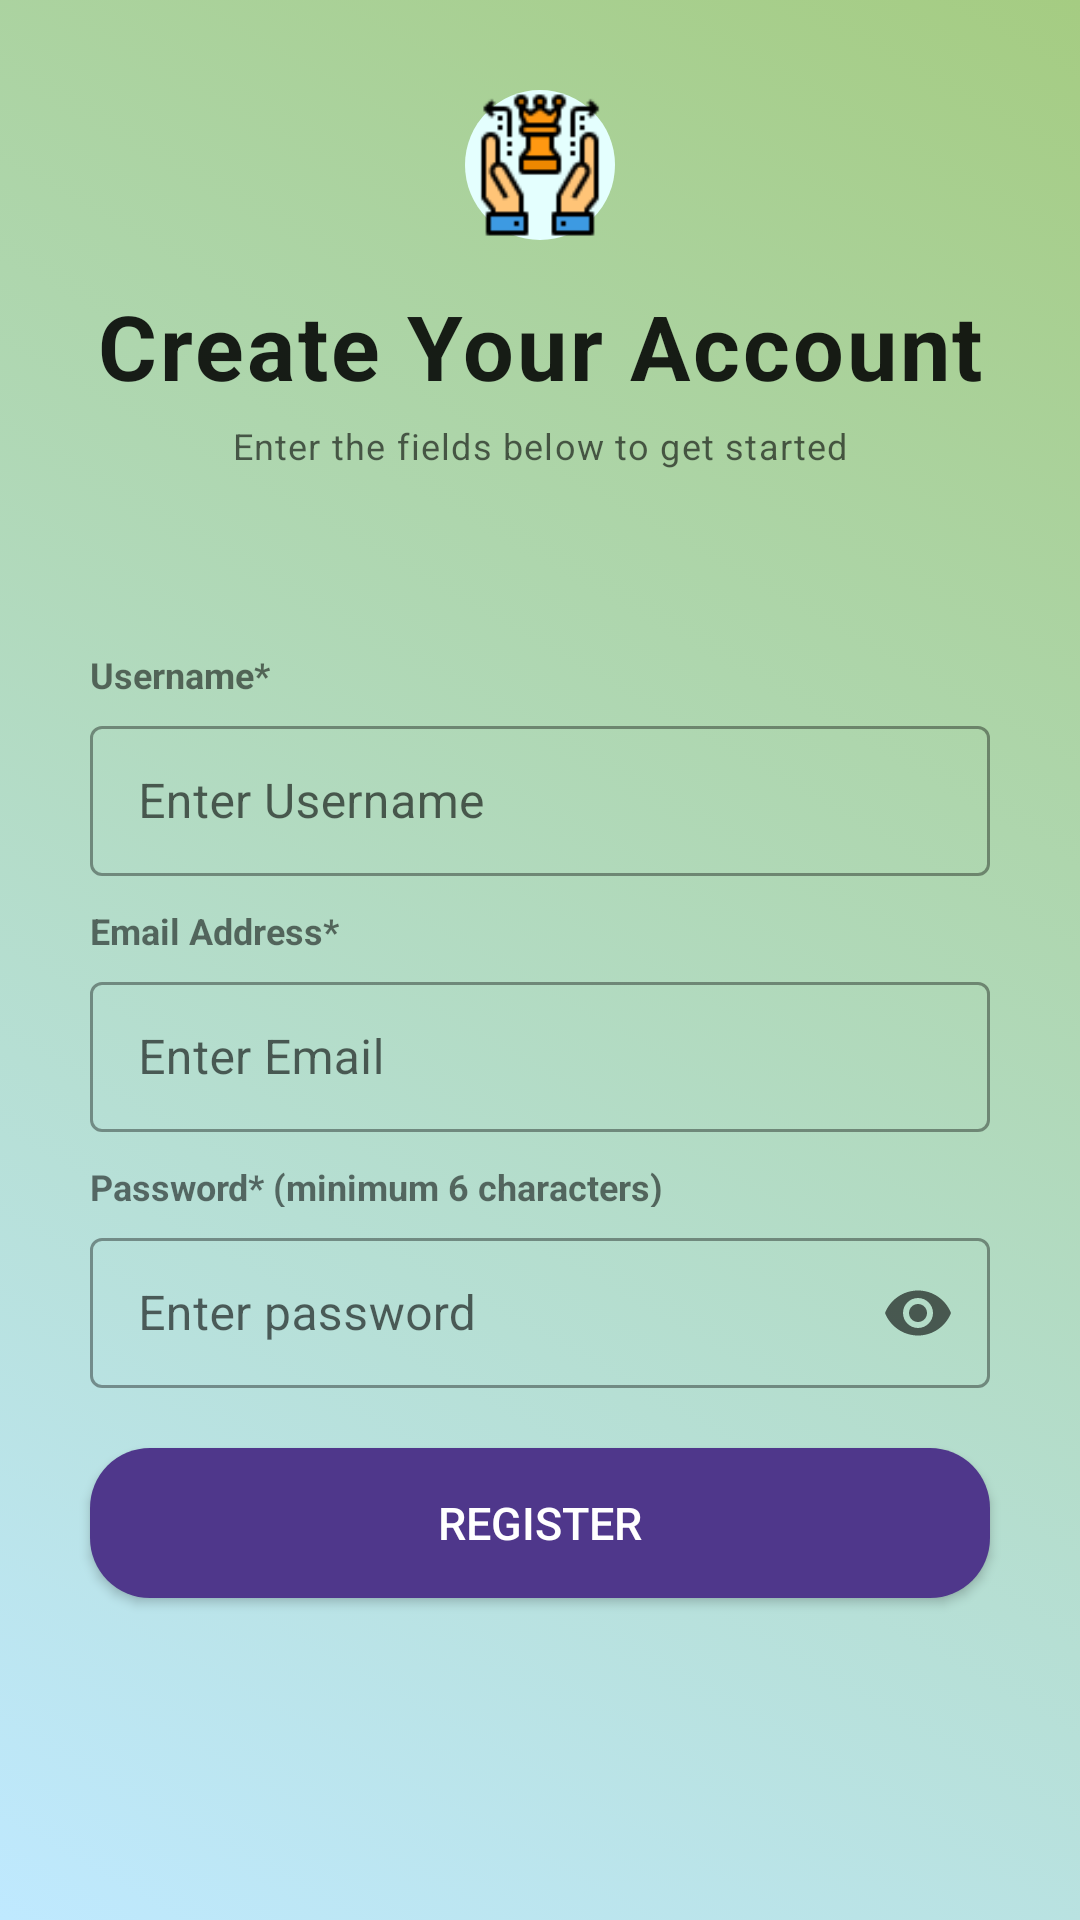

Screen size 1080px×1920px. Icon name, then its box in pixels as (x1, y1, x2, y2):
gameicon: (465, 90, 615, 240)
